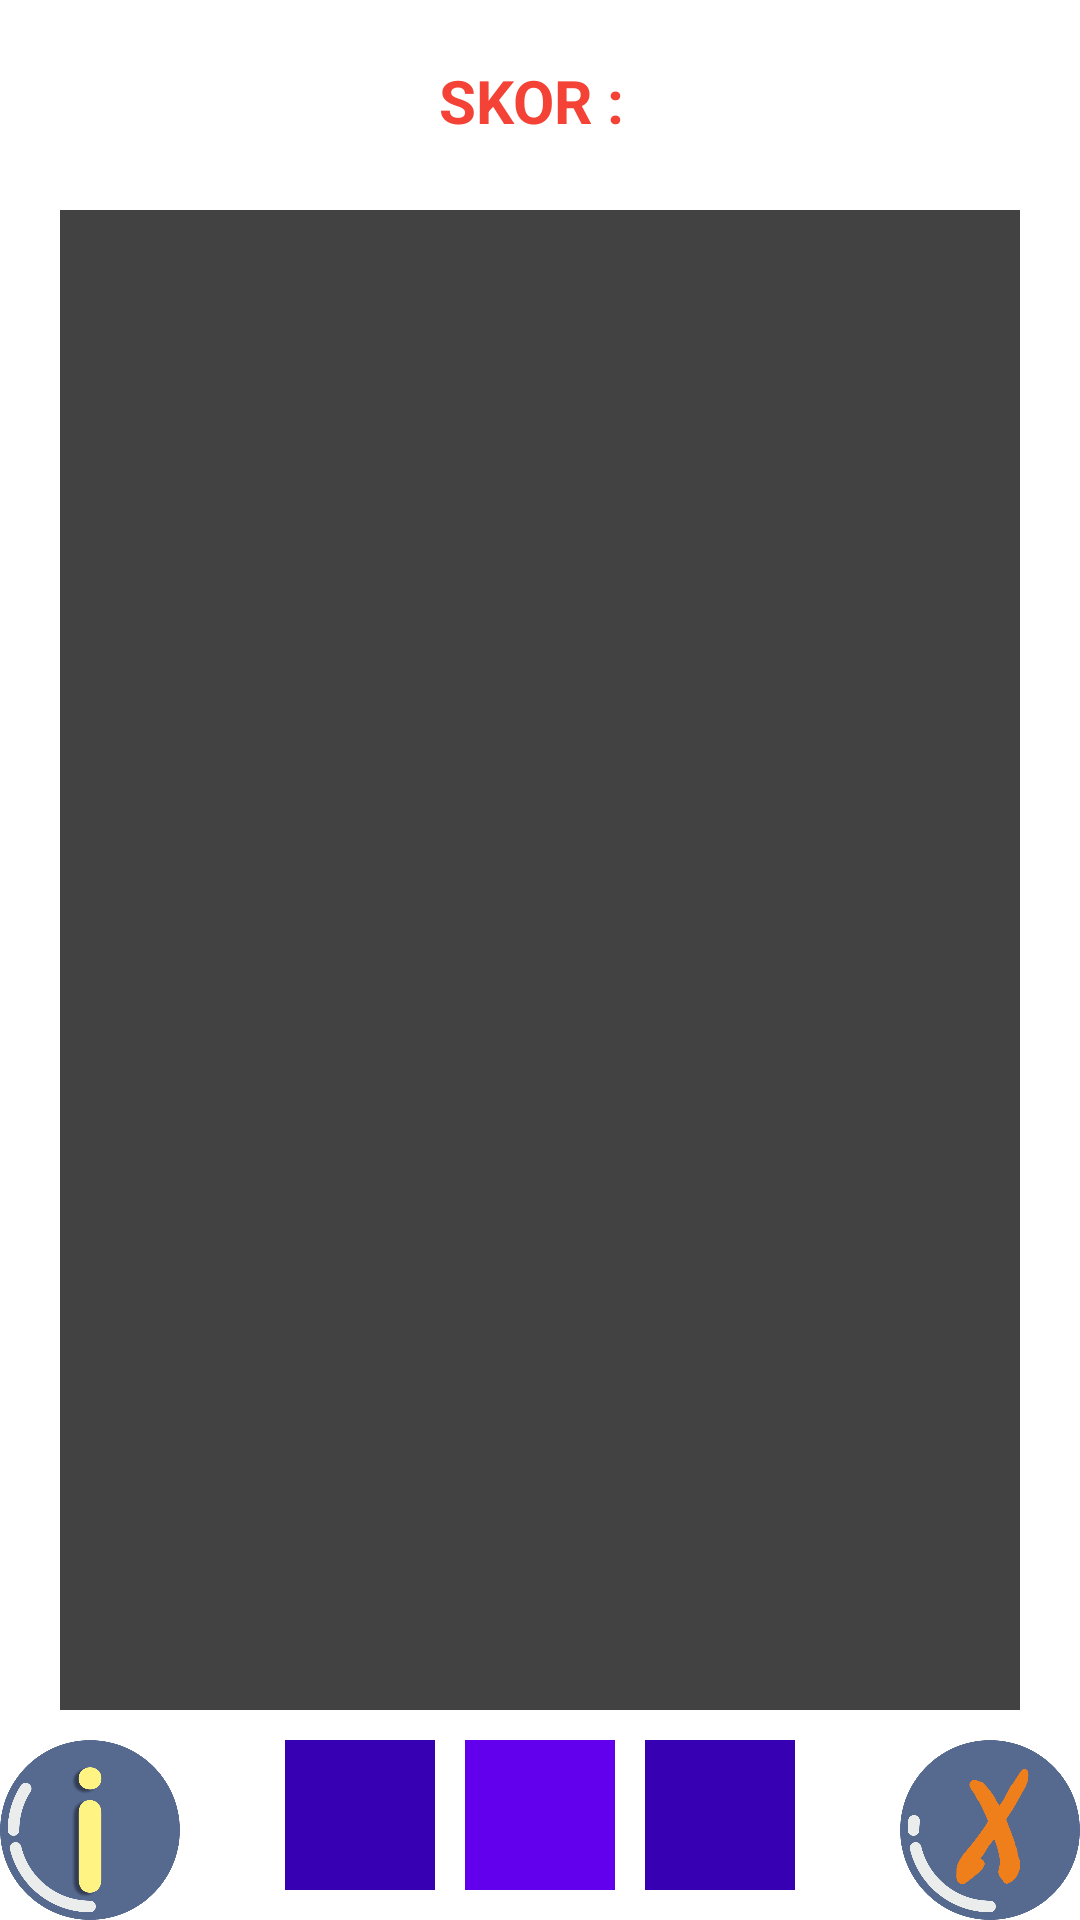

Named icons in this screenshot (1080w x 1920h) and their bounding boxes, (x1, y1, x2, y2):
exit: (900, 1740, 1080, 1920)
tentang: (0, 1740, 180, 1920)
